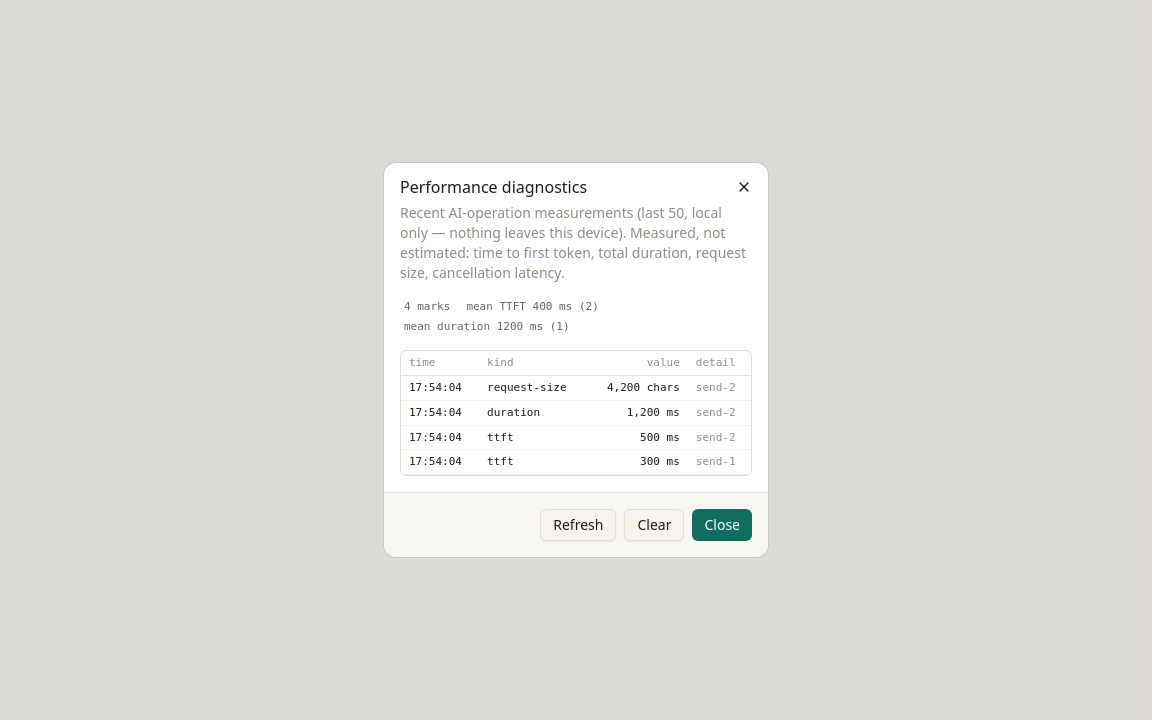
Test: DiagnosticsDialog (5.5b) › shows recent marks with means and clears the buffer
Expected: the text "mean TTFT 400 ms (2)" is shown, [466,299,599,315]
Expected: the text "mean duration 1200 ms (1)" is shown, [404,319,570,334]
# Clear empties the ring buffer (and the readout says so).
Click the button "Clear". click: (654, 525)
box: [624,509,684,541]
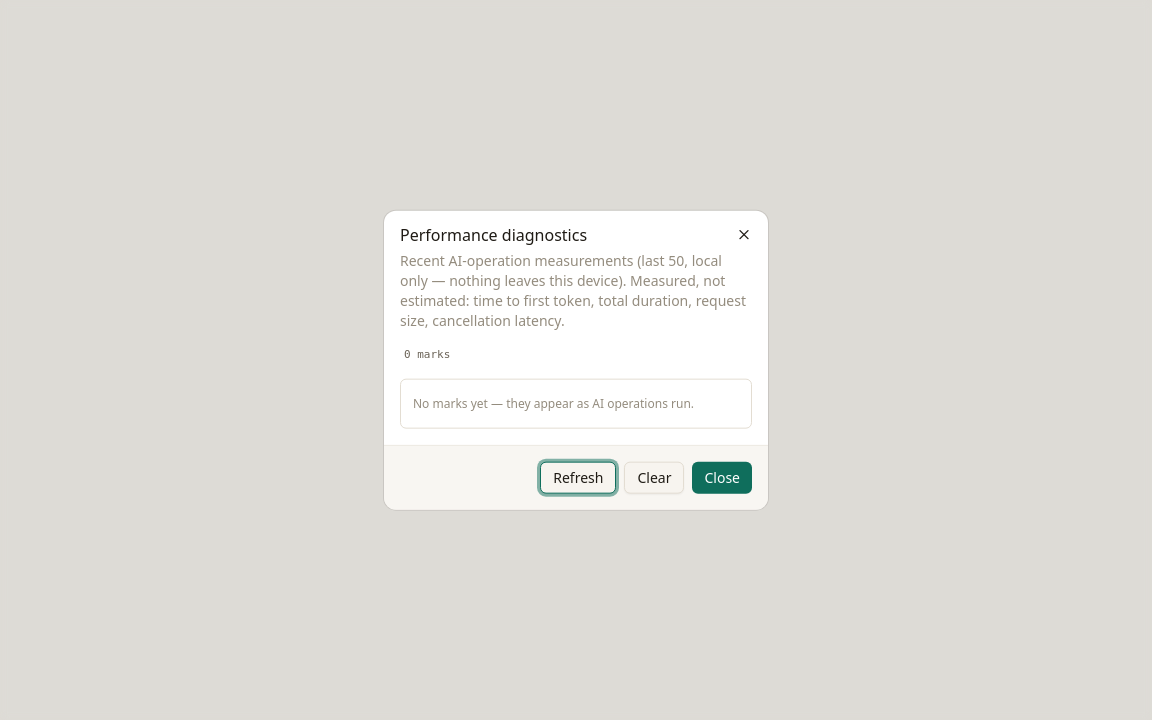
Expected: the text "No marks yet — they appear as AI operations run." is shown, [413,394,694,411]
